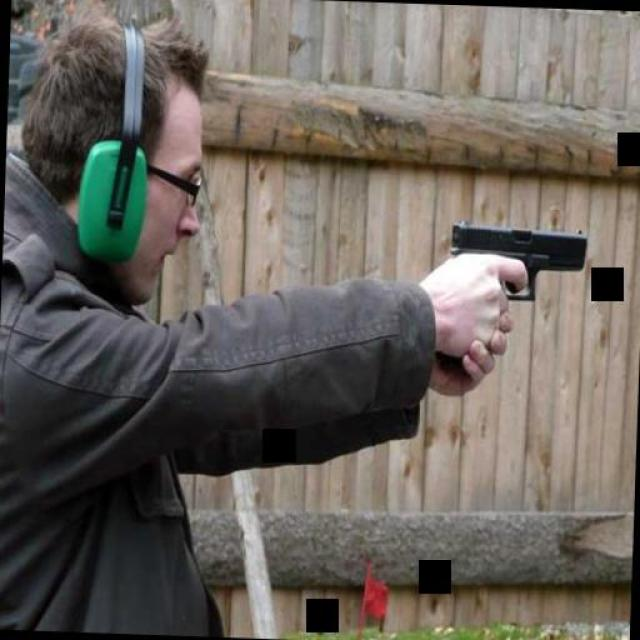gun: (422, 216, 586, 392)
